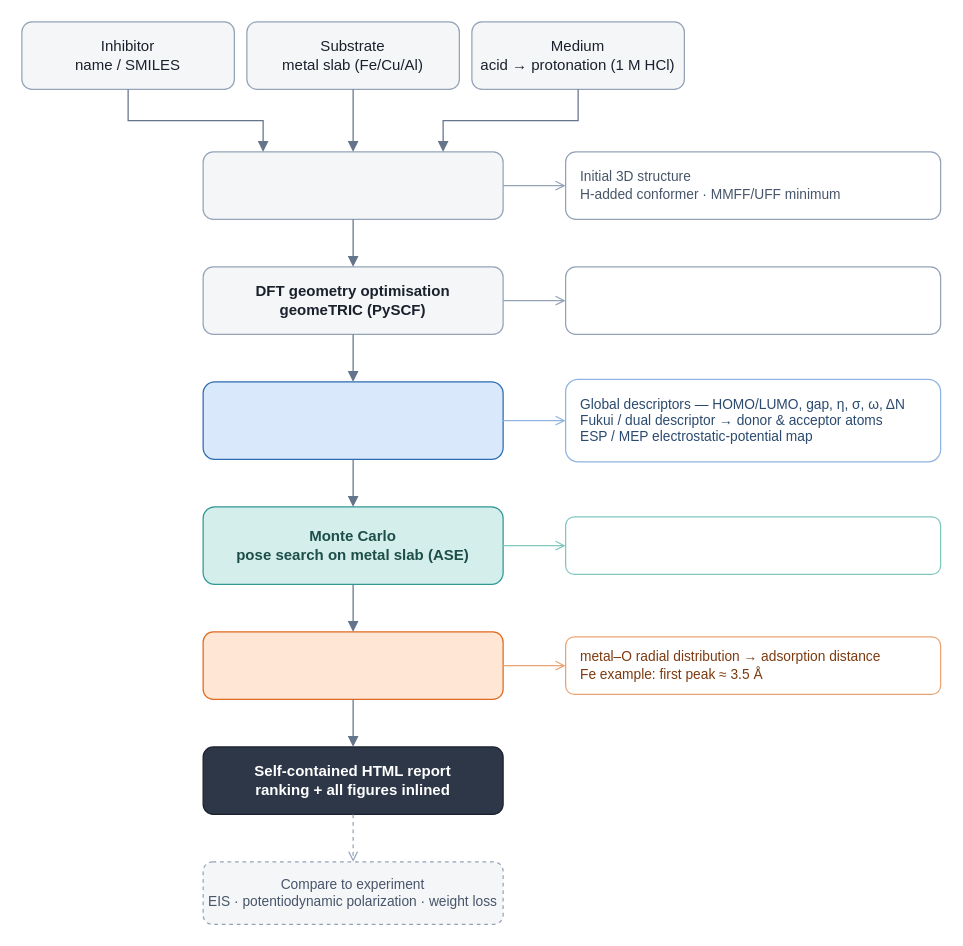
Image size: 963x946. Some labels were removed from this diagram. Each missing label, with the centre of its shape:
3D geometry RDKit — ETKDG + MMFF/UFF: point (352, 185)
Adsorption energy E_ads (UFF van der Waals) flat physisorption pose: point (752, 545)
DFT / xTB PySCF · tblite · (ORCA / Gaussian): point (352, 420)
DFT-optimised geometry B3LYP/6-31G(d) minimum: point (752, 300)
Molecular dynamics Brownian rigid-body (metal–O RDF): point (352, 665)
